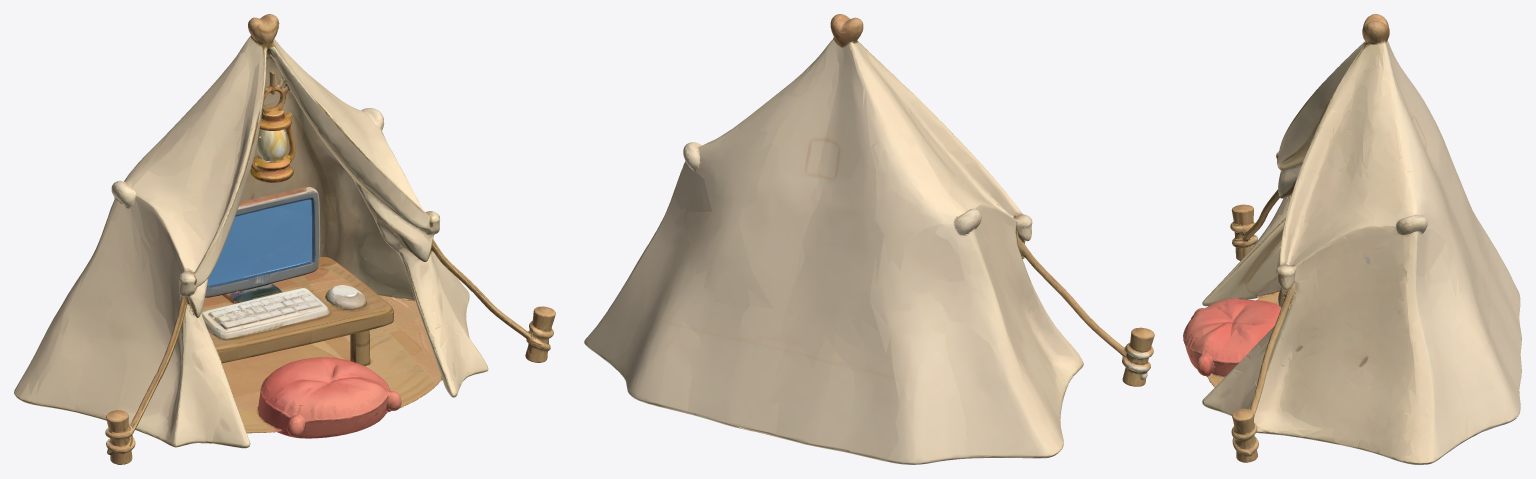
File: tent-workstation-meshy6-web-v3.glb
3 views of the same model, side by side, from view 1: azimuth 30°, elevation 25°; view 2: azimuth 150°, elevation 25°; view 3: azimuth 270°, elevation 25° (orthographic). The views are drawn at different scales.
Size of the model in its own units: 1.9 by 1.41 by 1.26.
Materials: 1 (1 with a texture image).
